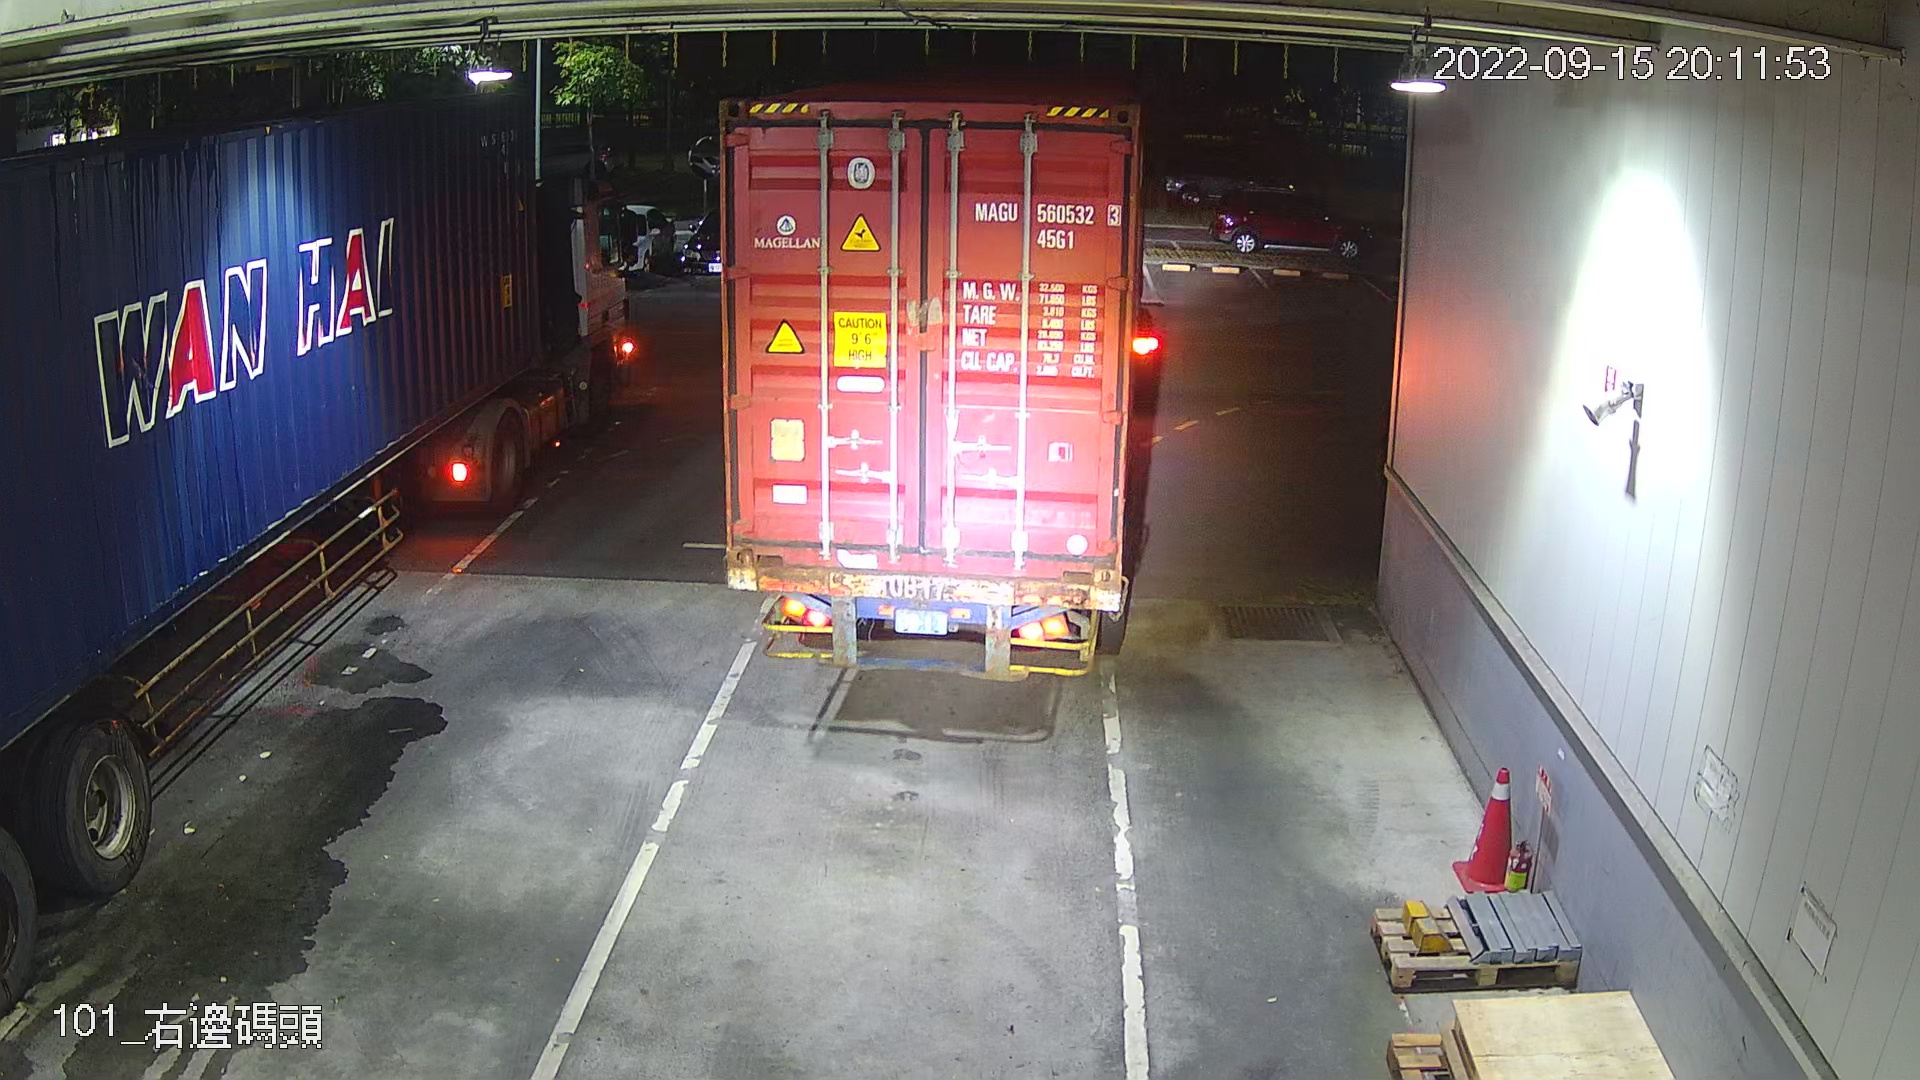container: (967, 194, 1125, 255)
